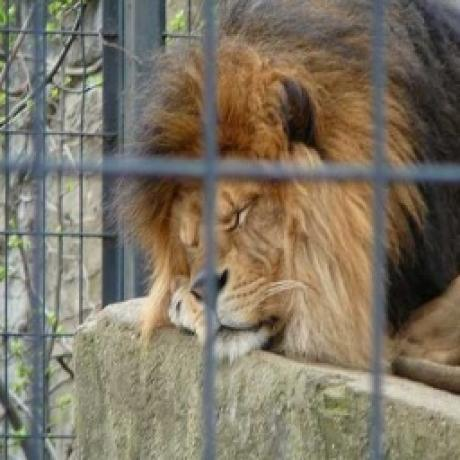Lion: (141, 0, 460, 398)
